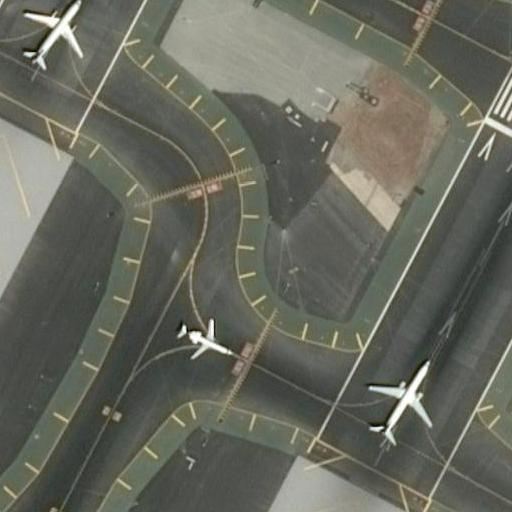Aircraft: (359, 347, 440, 448), (11, 0, 90, 73), (169, 308, 232, 363)
